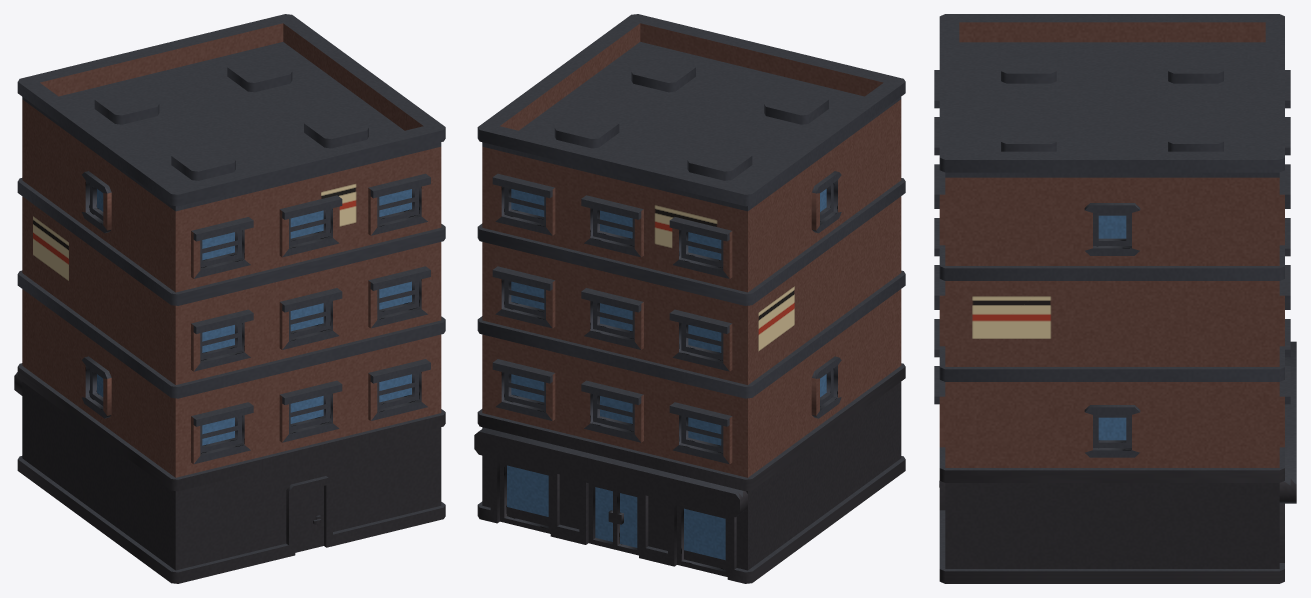
Rendered from building-i-brown.glb.
The picture shows the model from 3 angles, left to right: view 1: azimuth 30°, elevation 25°; view 2: azimuth 150°, elevation 25°; view 3: azimuth 270°, elevation 25°; orthographic projection. The views are drawn at different scales.
Parts seen in each view (by area): view 1: building-i-brown; view 2: building-i-brown; view 3: building-i-brown.
Part boxes in pixels (x1,y1,x2,y2): building-i-brown: (14,14,445,583); building-i-brown: (474,14,905,583); building-i-brown: (934,14,1296,583).
Bounding box in the file's own units: 1.24 × 1.68 × 1.3.
1 material, 1 textured.
